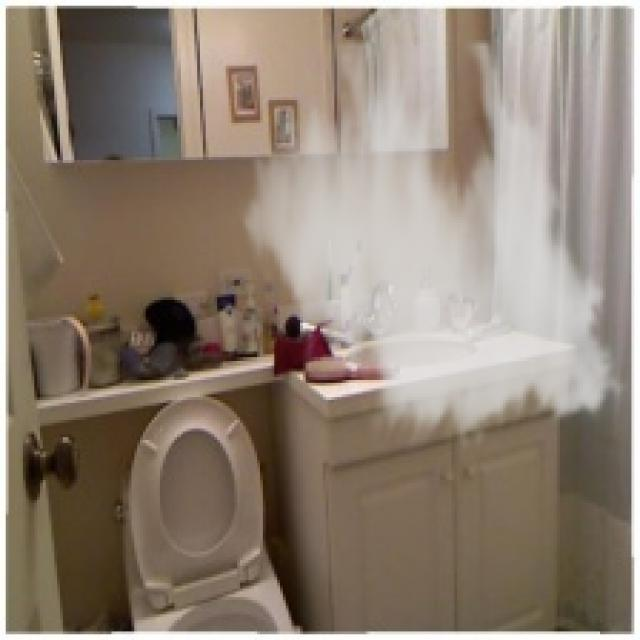smoke: (232, 40, 634, 451)
